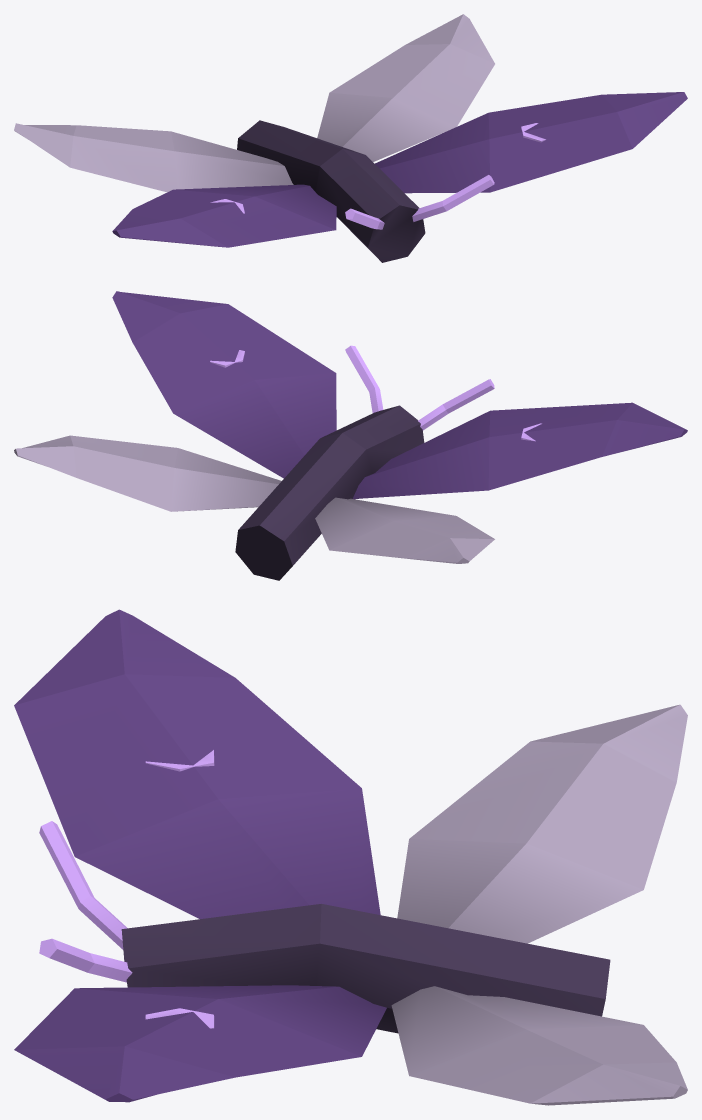
The model's file is ambient-cavern-moth.glb.
The picture shows the model from 3 angles, top to bottom: view 1: azimuth 30°, elevation 25°; view 2: azimuth 150°, elevation 25°; view 3: azimuth 270°, elevation 25°; orthographic projection. The views are drawn at different scales.
Parts seen in each view (by area): view 1: ambient-cavern-moth; view 2: ambient-cavern-moth; view 3: ambient-cavern-moth.
Boxes of the visible parts, left/top/right/bottom form: ambient-cavern-moth: left=14, top=14, right=687, bottom=262; ambient-cavern-moth: left=14, top=291, right=687, bottom=580; ambient-cavern-moth: left=14, top=609, right=687, bottom=1105.
Bounding box in the file's own units: 2.08 × 0.4181 × 1.23.
